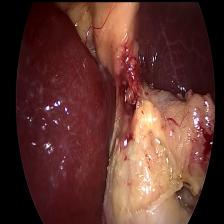Grasper: (172, 180, 202, 214)
